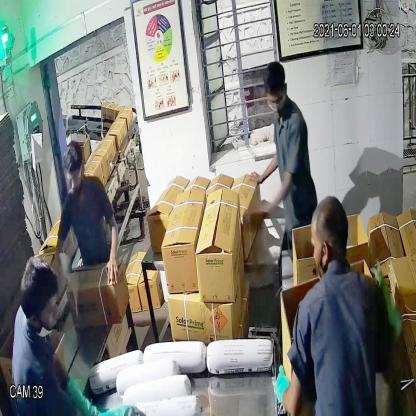goggles: (62, 163, 87, 189)
